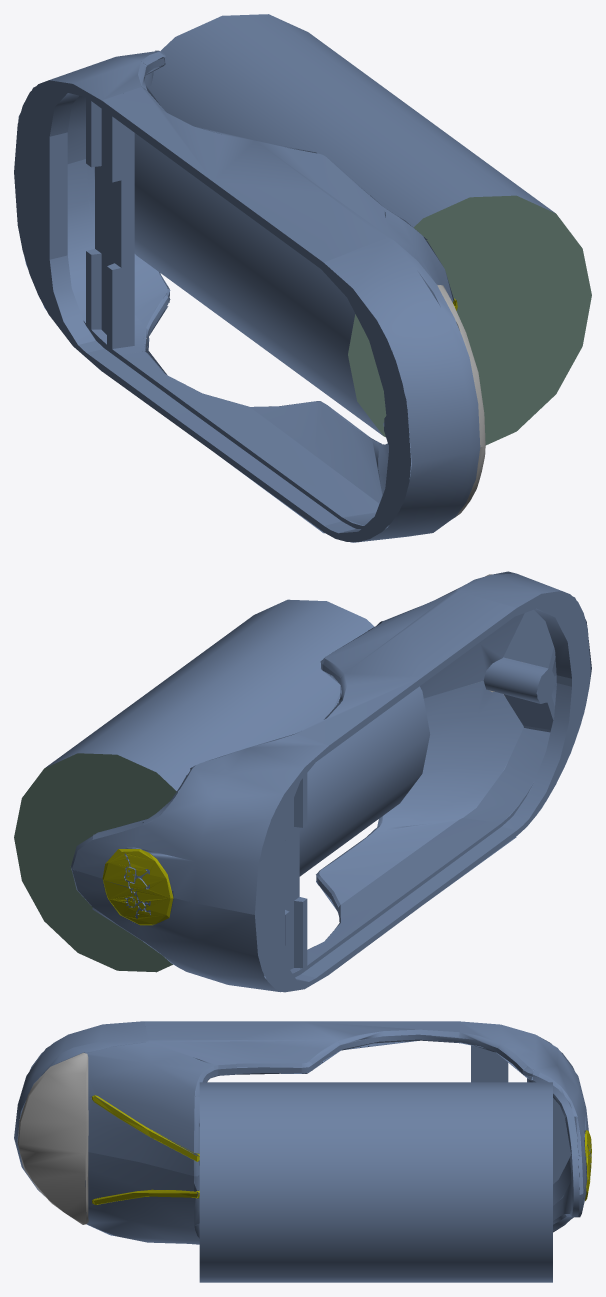
Rendered from icub_l_foot.dae.
3 renders of one model, top to bottom at view 1: azimuth 30°, elevation 25°; view 2: azimuth 150°, elevation 25°; view 3: azimuth 270°, elevation 25°, orthographic. The views are drawn at different scales.
Parts seen in each view (by area): view 1: l_foot_mesh, l_foot_cyl_mesh; view 2: l_foot_mesh, l_foot_cyl_mesh; view 3: l_foot_cyl_mesh, l_foot_mesh.
Part boxes in pixels (x1,y1,x2,y2): l_foot_mesh: [14, 50, 485, 542]; l_foot_cyl_mesh: [134, 14, 591, 445]; l_foot_mesh: [71, 571, 591, 992]; l_foot_cyl_mesh: [14, 599, 430, 972]; l_foot_cyl_mesh: [199, 1082, 552, 1282]; l_foot_mesh: [14, 1021, 591, 1244].
Size of the model in its own units: 0.0681 by 0.0601 by 0.1555.
